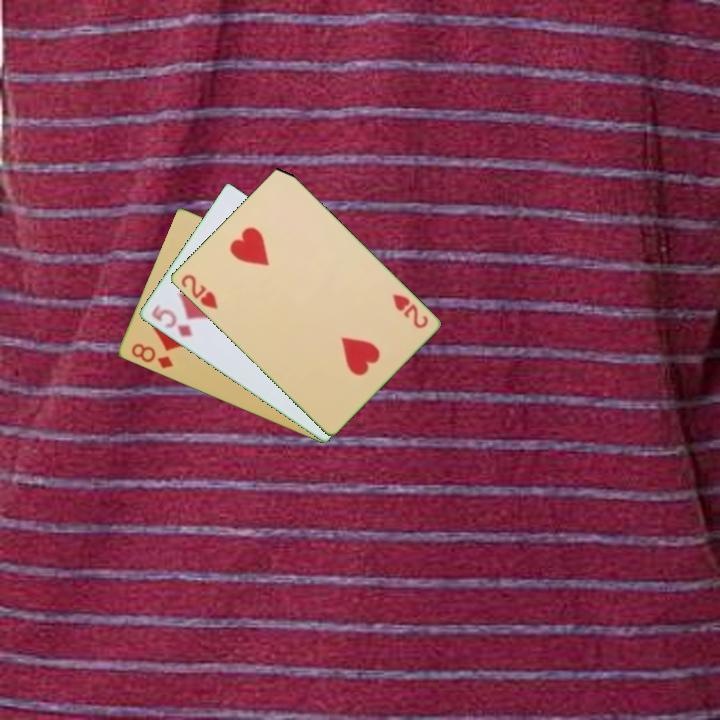2h: (177, 271, 221, 312), (389, 290, 431, 332)
5d: (147, 301, 196, 340)
8d: (127, 340, 176, 372)
